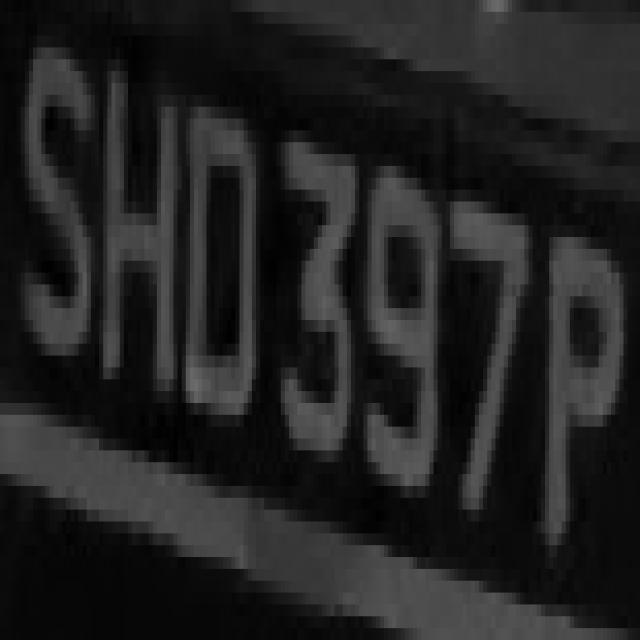3: (272, 48, 351, 510)
7: (434, 154, 528, 569)
9: (343, 130, 442, 522)
D: (182, 71, 268, 450)
H: (103, 36, 186, 438)
P: (532, 190, 632, 545)
S: (29, 0, 99, 403)
